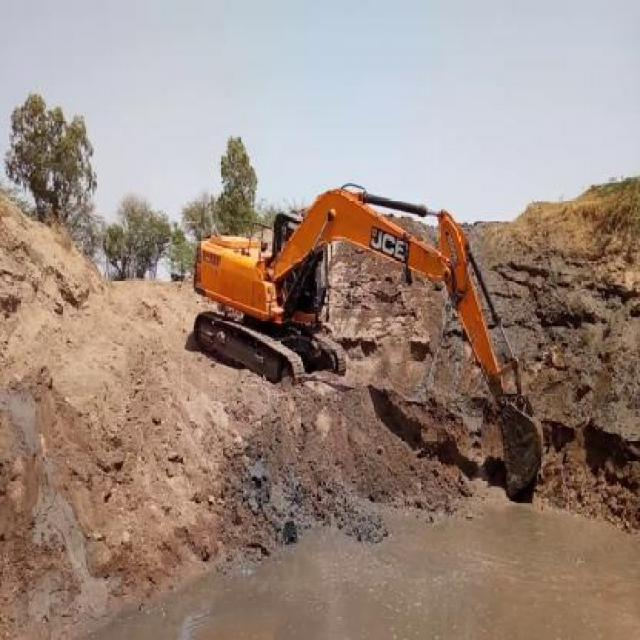Excavator: (189, 180, 545, 495)
